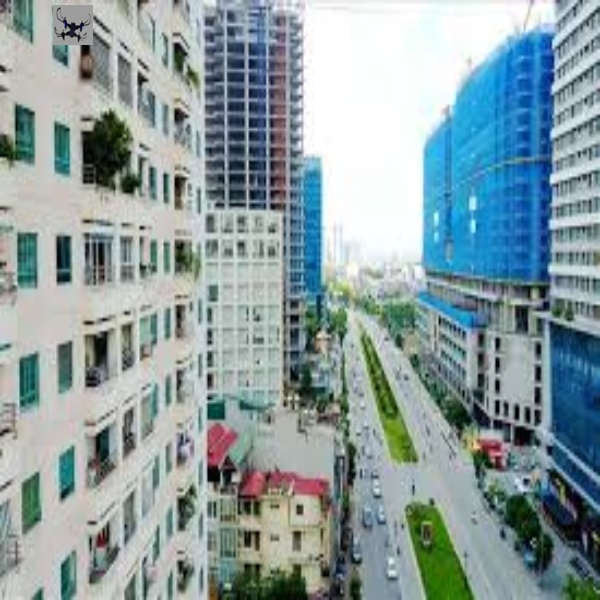drone: (47, 4, 91, 45)
